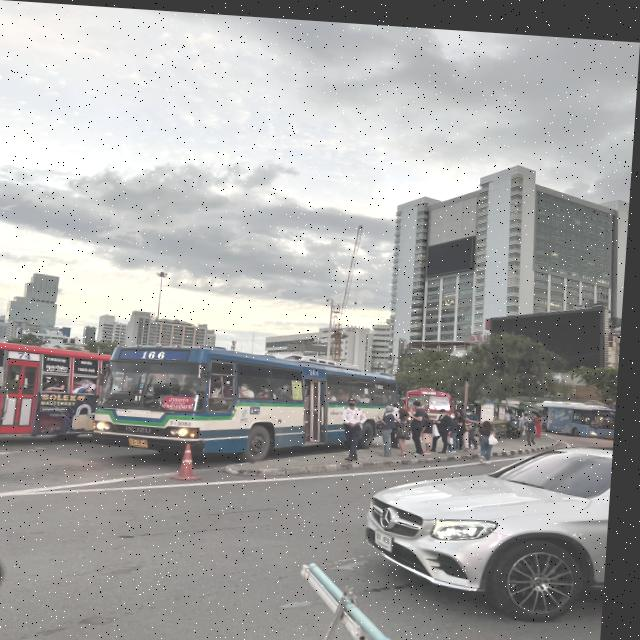BMTA-bus: (96, 336, 409, 468), (409, 379, 462, 416)
Bus-Line-Number: (144, 347, 173, 358)
Destination-Sign-Extra-Bus: (166, 392, 201, 408)
